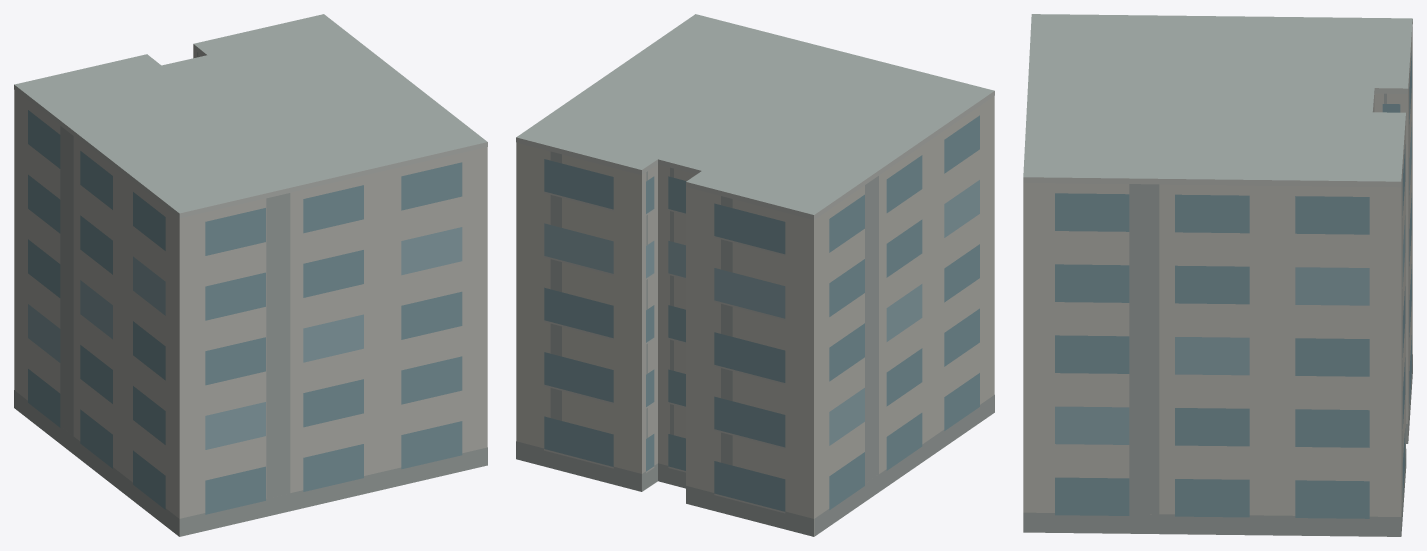
Rendered from survey-upis-32654379.glb.
3 views of the same model, side by side, from view 1: azimuth 30°, elevation 25°; view 2: azimuth 150°, elevation 25°; view 3: azimuth 270°, elevation 25° (orthographic). The views are drawn at different scales.
Parts seen in each view (by area): view 1: survey-upis-32654379.tmp; view 2: survey-upis-32654379.tmp; view 3: survey-upis-32654379.tmp.
Boxes of the visible parts, x1,y1,x2,y2 form: survey-upis-32654379.tmp: [14, 14, 487, 536]; survey-upis-32654379.tmp: [516, 14, 994, 536]; survey-upis-32654379.tmp: [1023, 14, 1412, 536].
Size of the model in its own units: 15.8 by 15.6 by 15.51.
